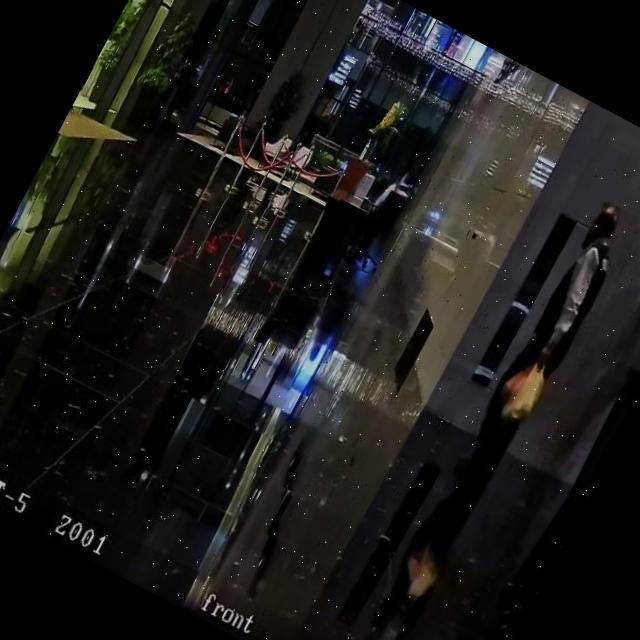person: (448, 194, 638, 496), (365, 158, 421, 228)
